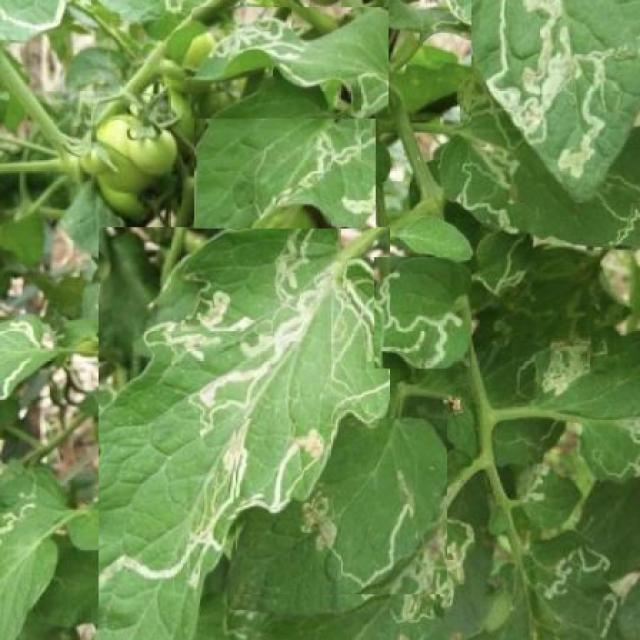Leaf Miner: (99, 227, 390, 640), (236, 419, 447, 594), (472, 0, 640, 203), (194, 77, 376, 229), (192, 7, 388, 119), (375, 258, 471, 369)
